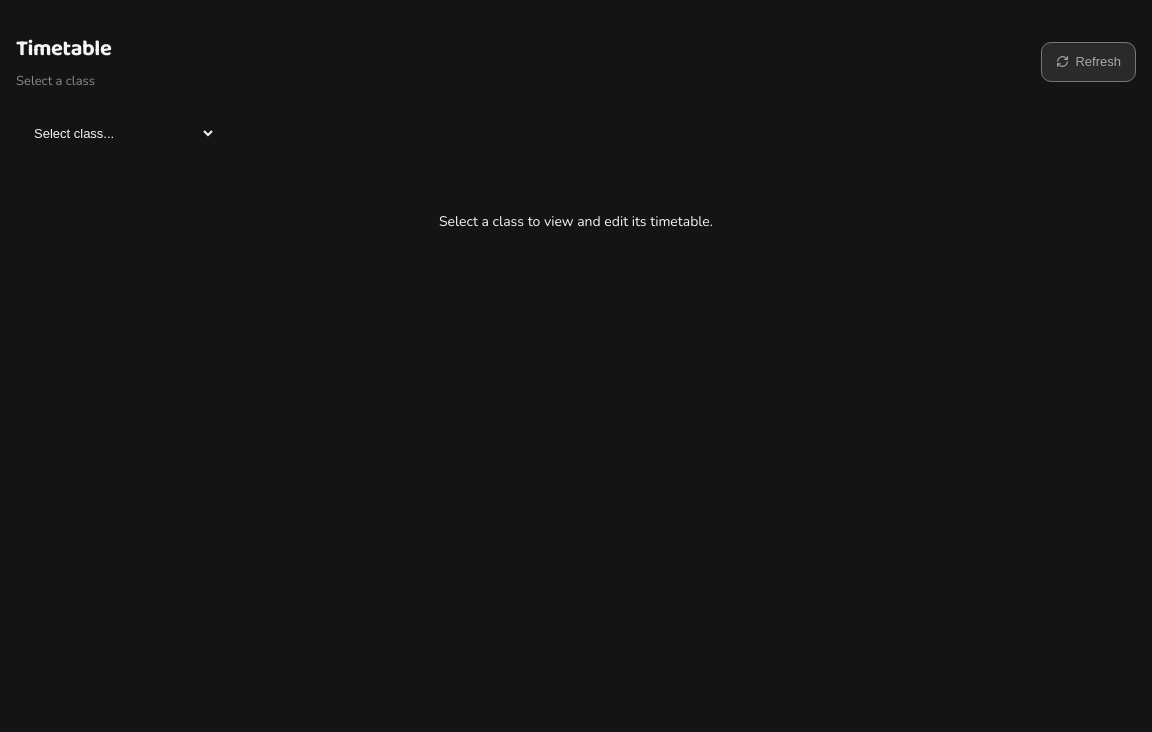
working it out asks the server and shows the week, saving nothing
The width and height of the screenshot is (1152, 732).
Select "5th-A" in the dropdown. click: (116,134)
box: 16,116 -> 216,151
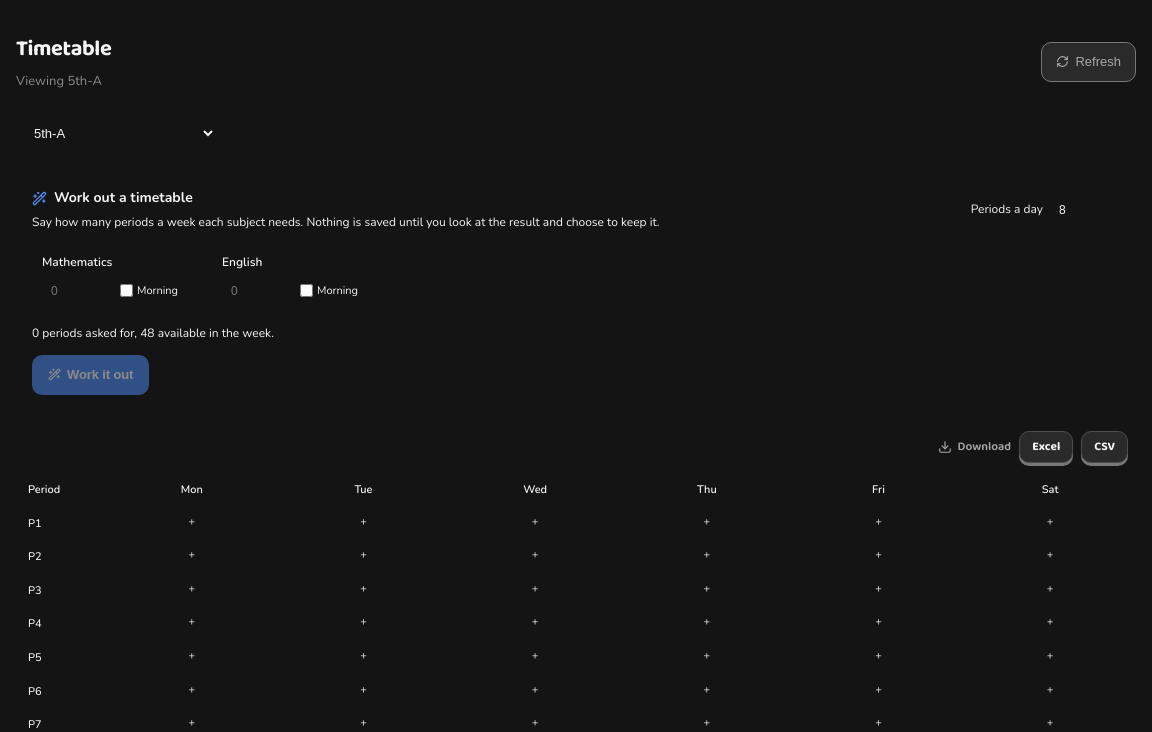
Now the number field with test id "generator-count-sub-maths" is shown
Type "6" into the number field with test id "generator-count-sub-maths". click: (77,291)
box: 42,278 -> 112,304
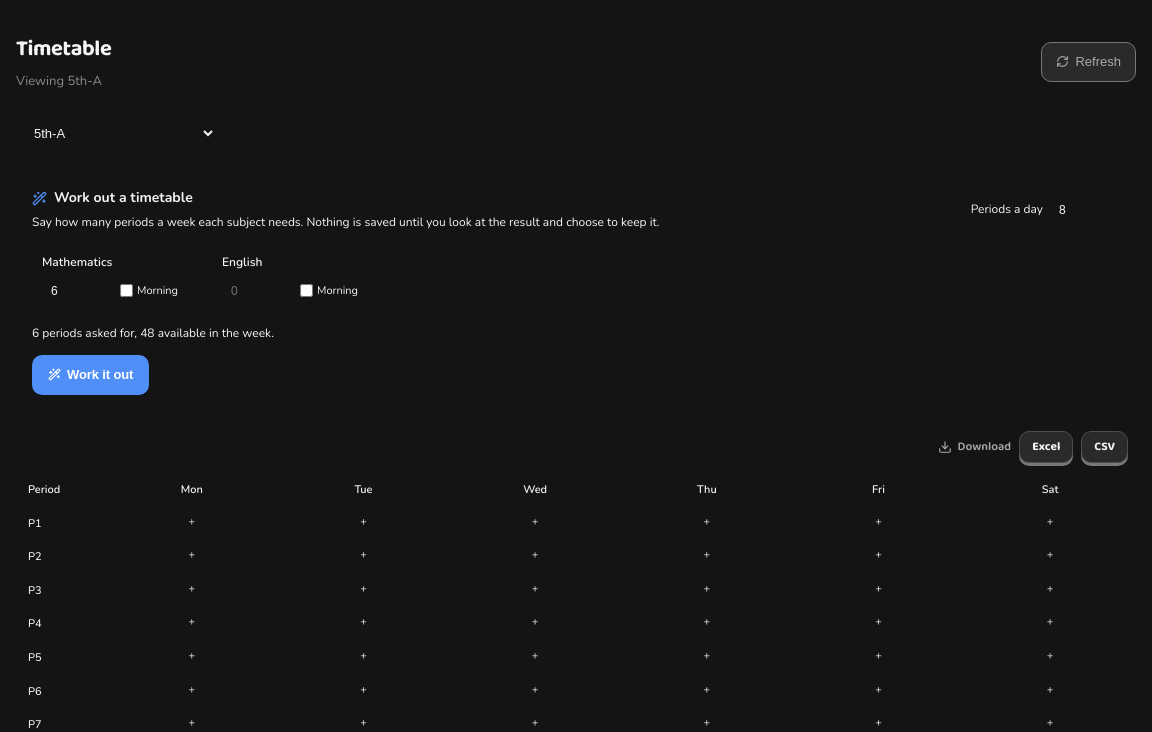
Click the button with test id "generator-run". click: (91,375)
box: 32,355 -> 149,395
(page scrolled)
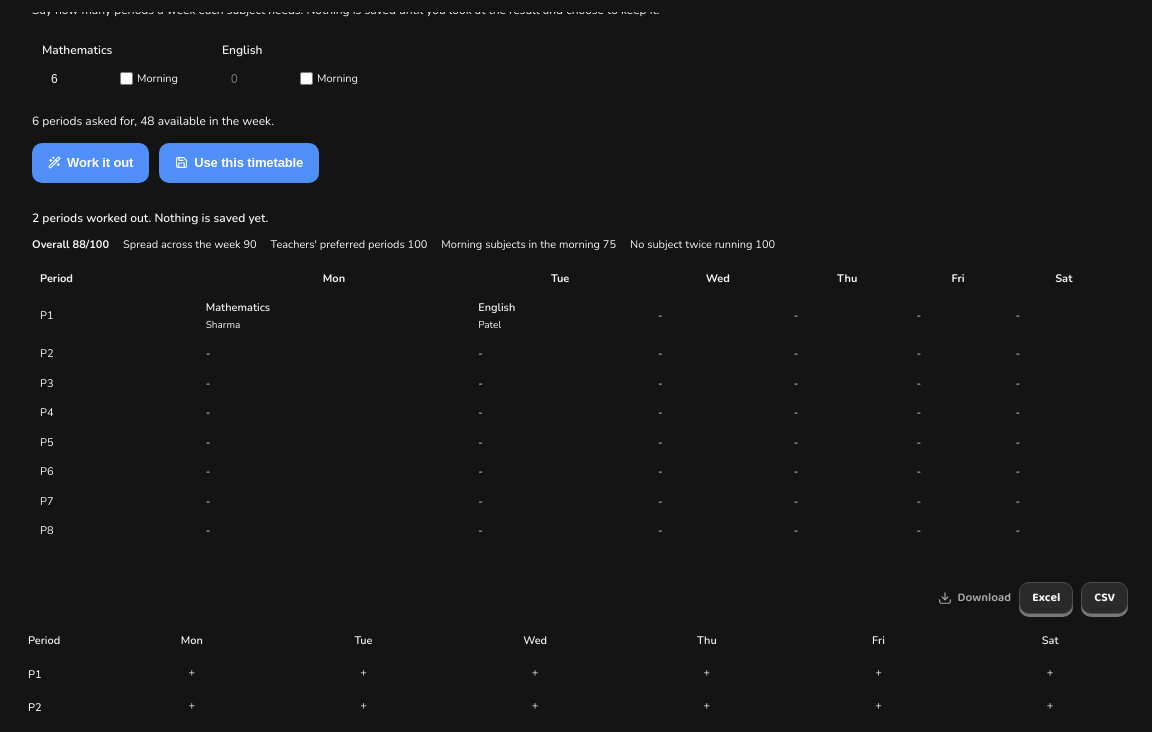
Now the element with test id "generator-proposal" is shown, box 32,197 -> 1120,546
Now the element with test id "generator-proposal" shows "Nothing is saved yet", box 39,210 -> 268,226
